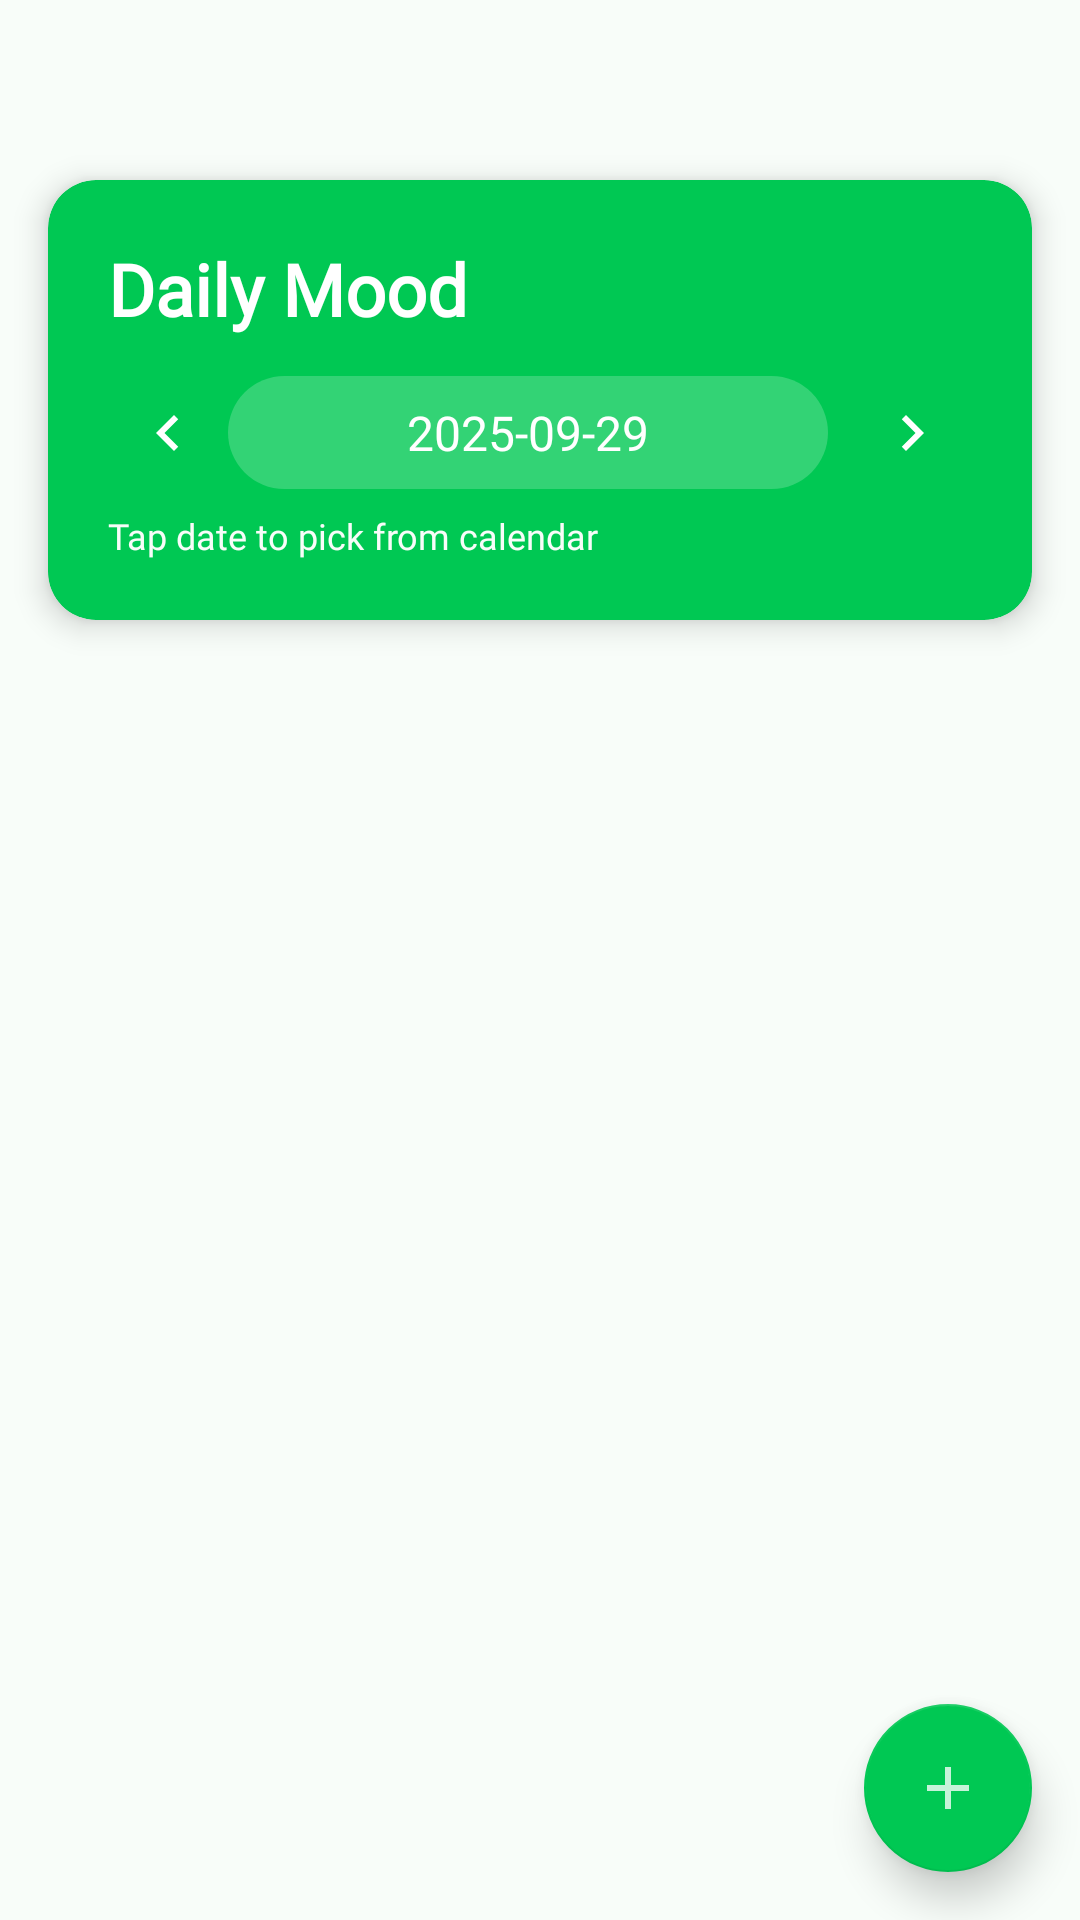

Screen size 1080 x 1920. Icon name, then its box in pixels as rect(x1, y1, x2, y2):
add: rect(864, 1704, 1032, 1872)
chevron left: rect(156, 415, 178, 451)
chevron right: rect(902, 415, 924, 451)
